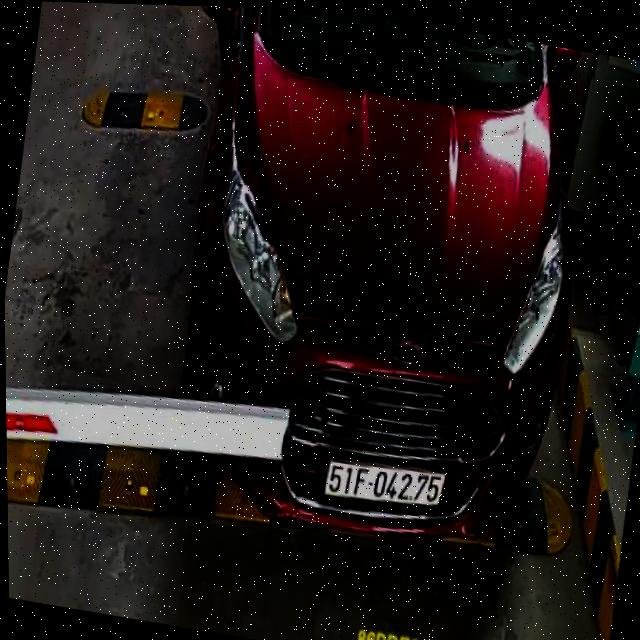car: (115, 3, 613, 574)
plate: (322, 453, 450, 517)
